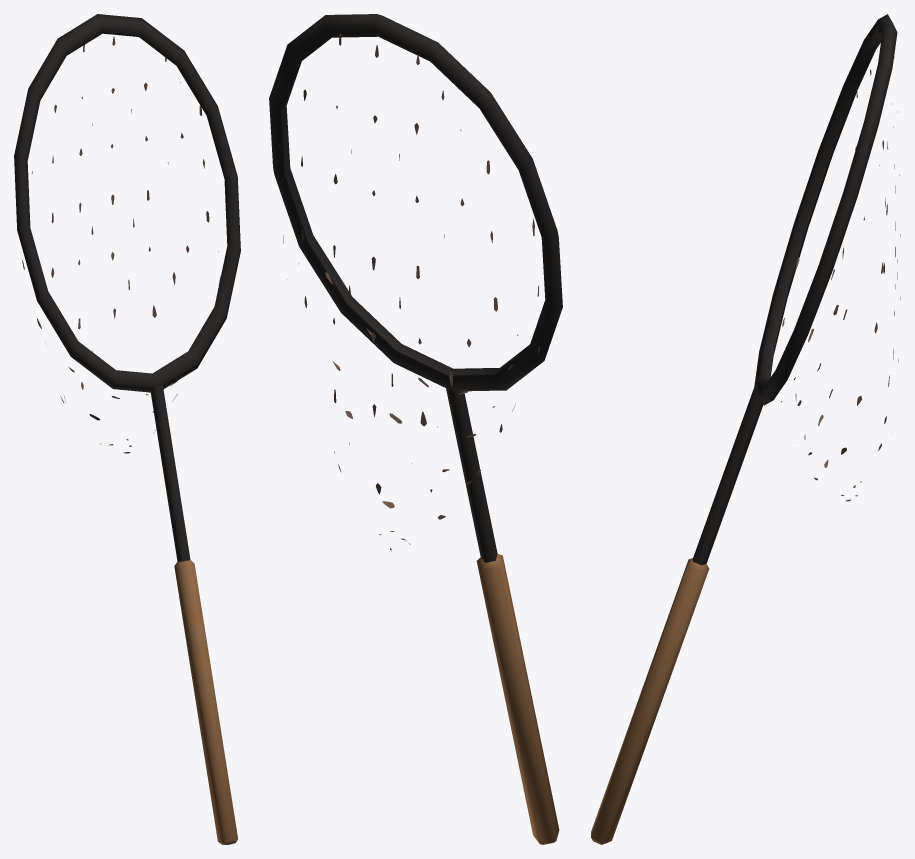
File: cove-hand-net.lod0.glb
3 views of the same model, side by side, from view 1: azimuth 30°, elevation 25°; view 2: azimuth 150°, elevation 25°; view 3: azimuth 270°, elevation 25° (orthographic). The views are drawn at different scales.
Parts seen in each view (by area): view 1: Object_12; view 2: Object_12; view 3: Object_12.
Part boxes in pixels (x1,y1,x2,y2): Object_12: (14,14,240,844); Object_12: (269,14,562,844); Object_12: (591,14,900,844).
Size of the model in its own units: 0.471 by 1.5 by 0.5133.
1 material, 1 textured.
